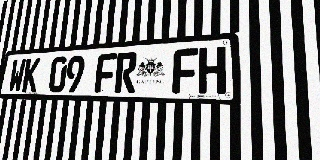0: (48, 56, 68, 93)
9: (64, 55, 85, 93)
F: (172, 48, 198, 94), (94, 53, 117, 93)
H: (198, 46, 226, 94)
K: (22, 58, 41, 92)
R: (114, 52, 138, 93)
W: (8, 59, 26, 92)
